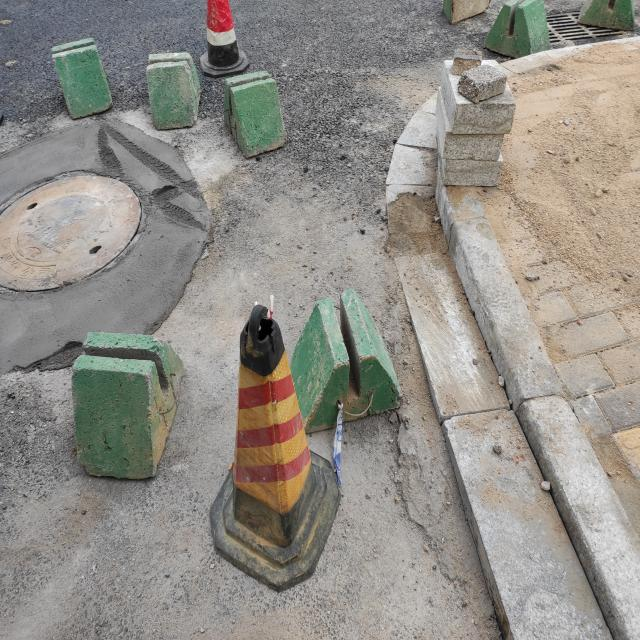reflective_cone: (209, 304, 341, 588), (200, 1, 250, 78)
